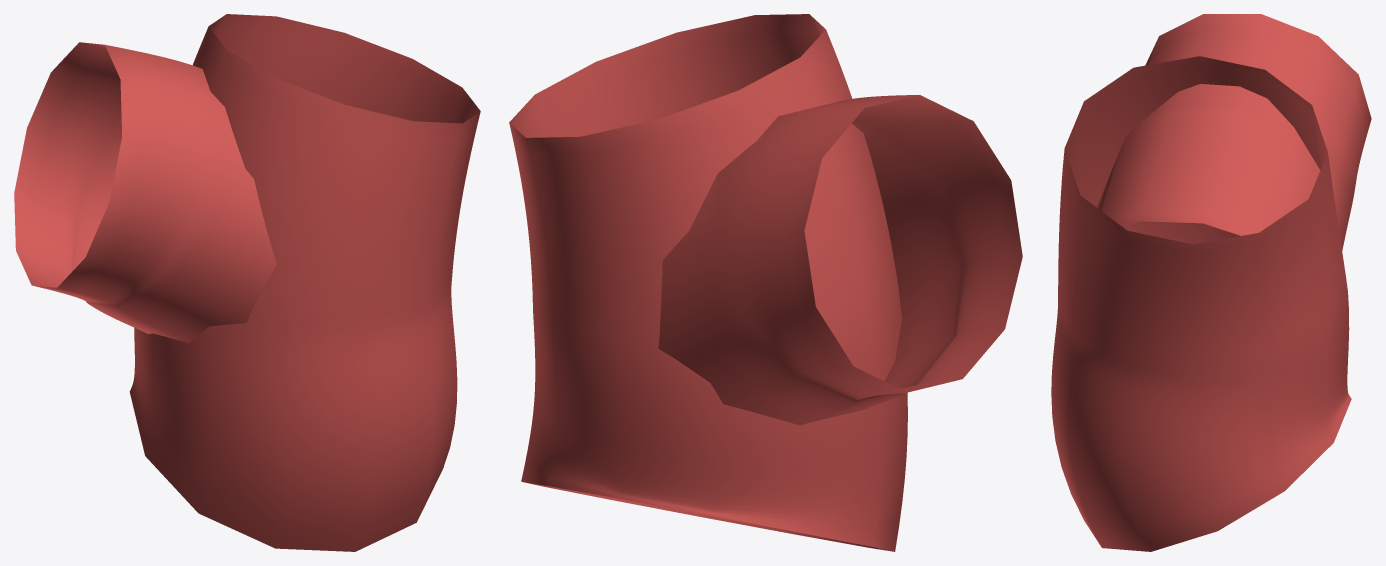
3 renders of one model, left to right at view 1: azimuth 30°, elevation 25°; view 2: azimuth 150°, elevation 25°; view 3: azimuth 270°, elevation 25°, orthographic. The views are drawn at different scales.
Visible parts, largest first — view 1: 肺动脉干分叉; view 2: 肺动脉干分叉; view 3: 肺动脉干分叉.
Boxes of the visible parts, x1,y1,x2,y2 form: 肺动脉干分叉: (14,14,480,551); 肺动脉干分叉: (509,14,1022,551); 肺动脉干分叉: (1051,14,1371,551).
Bounding box in the file's own units: 0.059 × 0.0661 × 0.0439.
